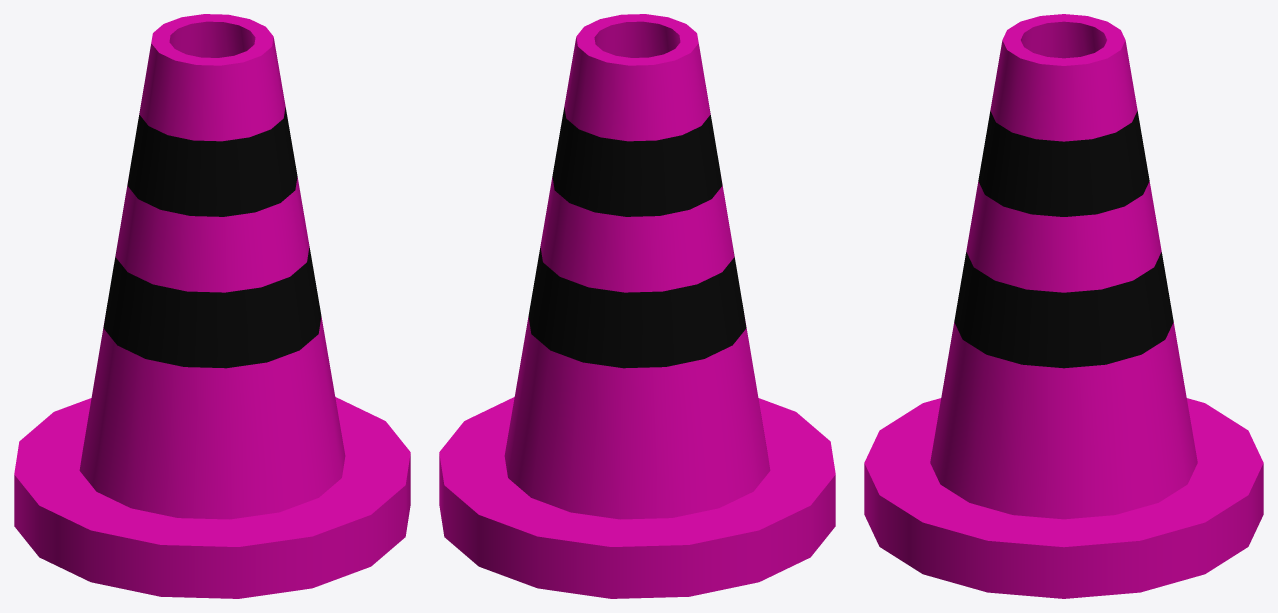
File: RC-RoadCone.fbx
3 renders of one model, left to right at view 1: azimuth 30°, elevation 25°; view 2: azimuth 150°, elevation 25°; view 3: azimuth 270°, elevation 25°, orthographic.
Visible parts, largest first — view 1: Road_Cone; view 2: Road_Cone; view 3: Road_Cone.
Boxes of the visible parts, box(x1,y1,x2,y2) form: Road_Cone: box(14, 14, 410, 598); Road_Cone: box(439, 14, 835, 598); Road_Cone: box(864, 14, 1263, 598).
Size of the model in its own units: 0.2828 by 0.3709 by 0.2828.
